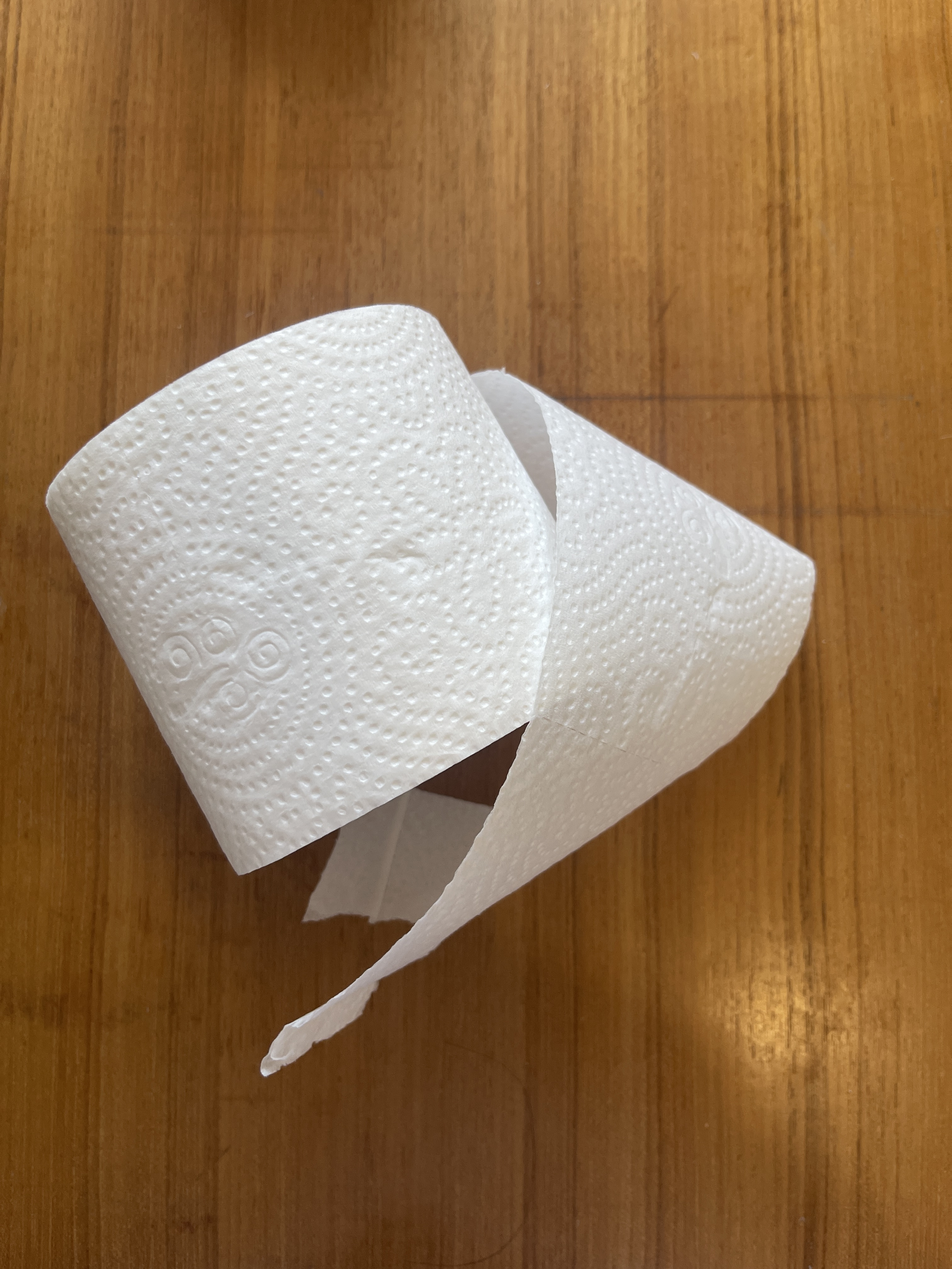paper: (39, 299, 818, 1081)
